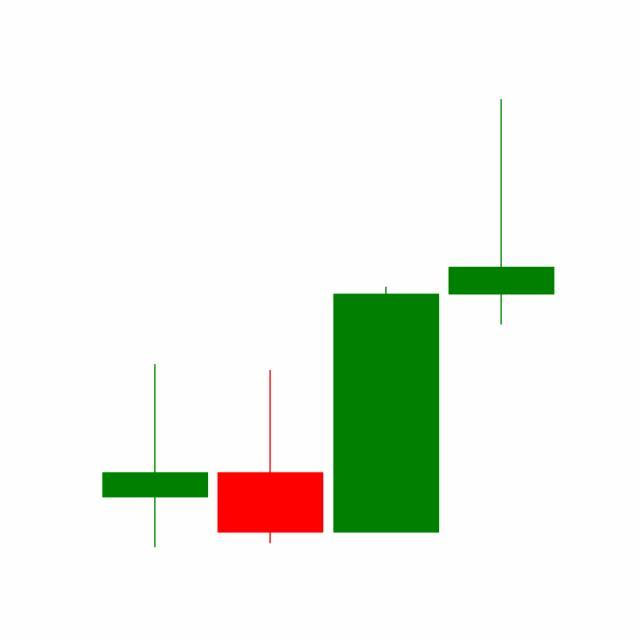Marubozu: (329, 285, 445, 536)
